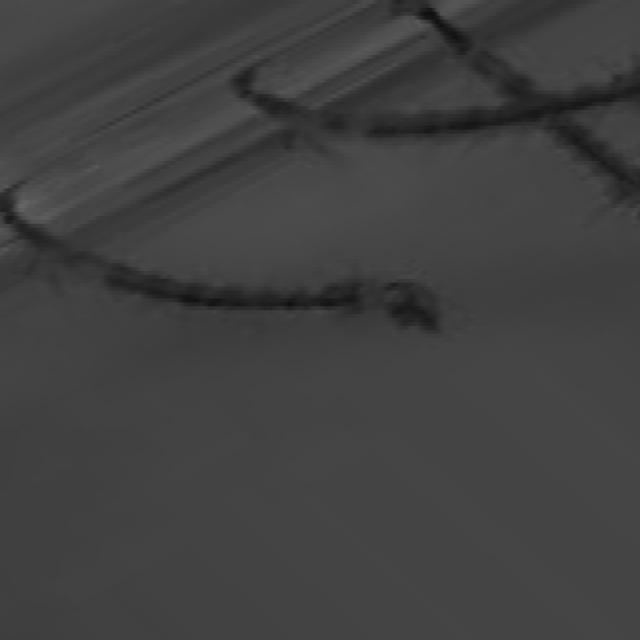larvas: (0, 194, 448, 352), (397, 3, 640, 223), (238, 56, 640, 143)
